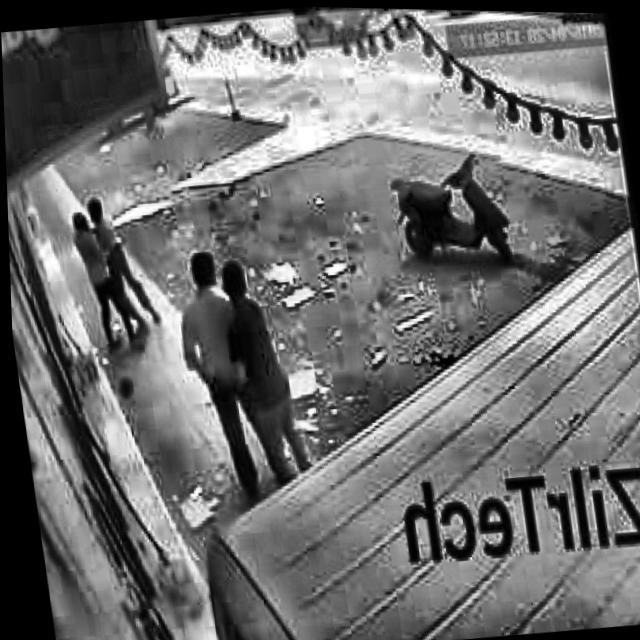robbery: (167, 246, 306, 501), (61, 183, 164, 364)
